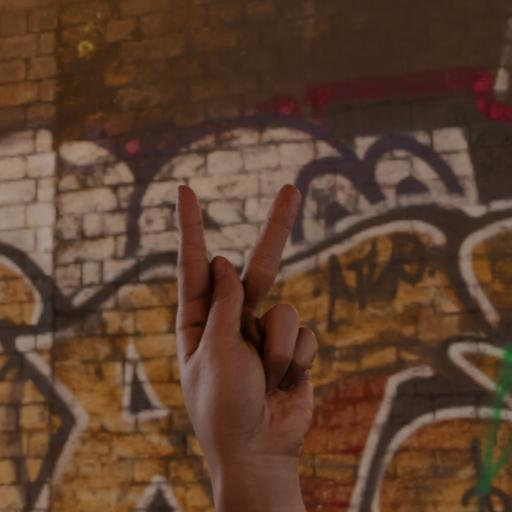K: (154, 151, 343, 465)
